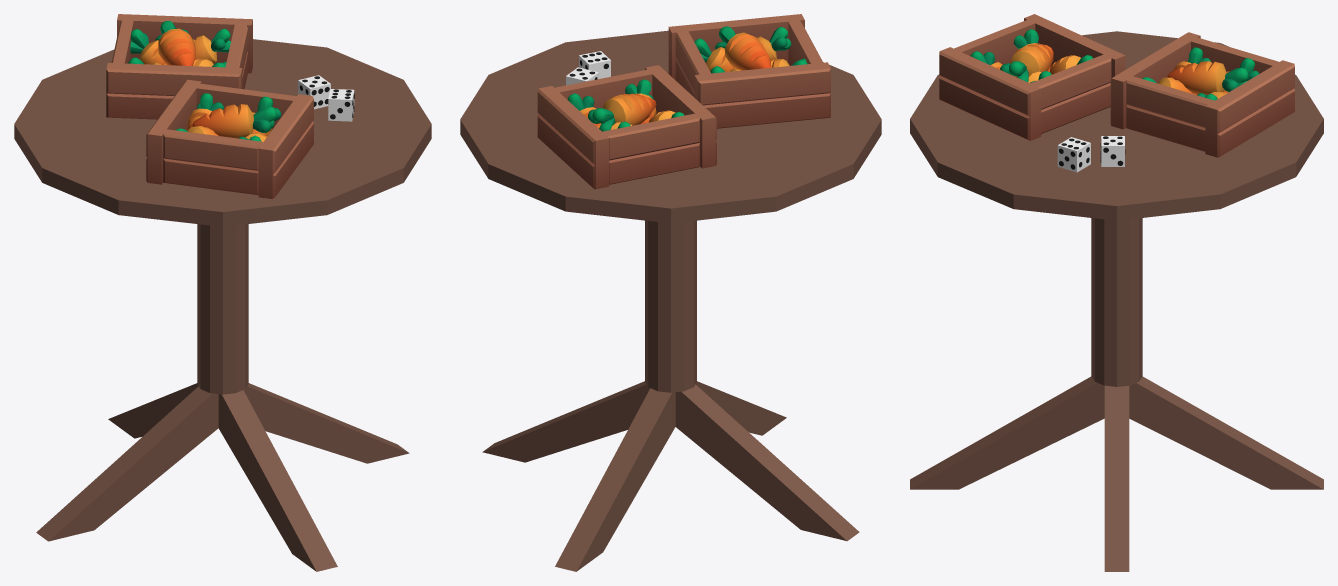
Rendered from gamblingtable.glb.
3 renders of one model, left to right at view 1: azimuth 30°, elevation 25°; view 2: azimuth 150°, elevation 25°; view 3: azimuth 270°, elevation 25°, orthographic.
Parts seen in each view (by area): view 1: Node, crate_carrots.001, crate_carrots, Node.002, Node.001; view 2: Node, crate_carrots, crate_carrots.001, Node.002; view 3: Node, crate_carrots, crate_carrots.001, Node.002, Node.001.
Boxes of the visible parts, x1,y1,x2,y2 form: Node: (14, 39, 431, 571); crate_carrots.001: (146, 79, 313, 198); crate_carrots: (106, 14, 252, 119); Node.002: (328, 89, 354, 121); Node.001: (298, 75, 330, 109); Node: (460, 30, 881, 571); crate_carrots: (537, 65, 716, 189); crate_carrots.001: (668, 14, 830, 128); Node.002: (579, 51, 610, 78); Node: (910, 31, 1323, 571); crate_carrots: (1110, 32, 1294, 157); crate_carrots.001: (939, 14, 1125, 140); Node.002: (1057, 137, 1090, 172); Node.001: (1100, 136, 1125, 166).
Bounding box in the file's own units: 4.37 × 4.92 × 4.37.
4 materials, 1 textured.
